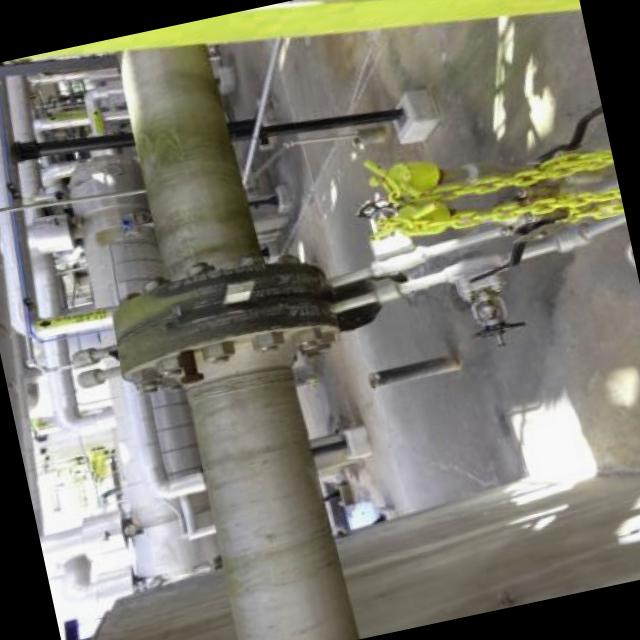gas: (82, 9, 375, 640)
